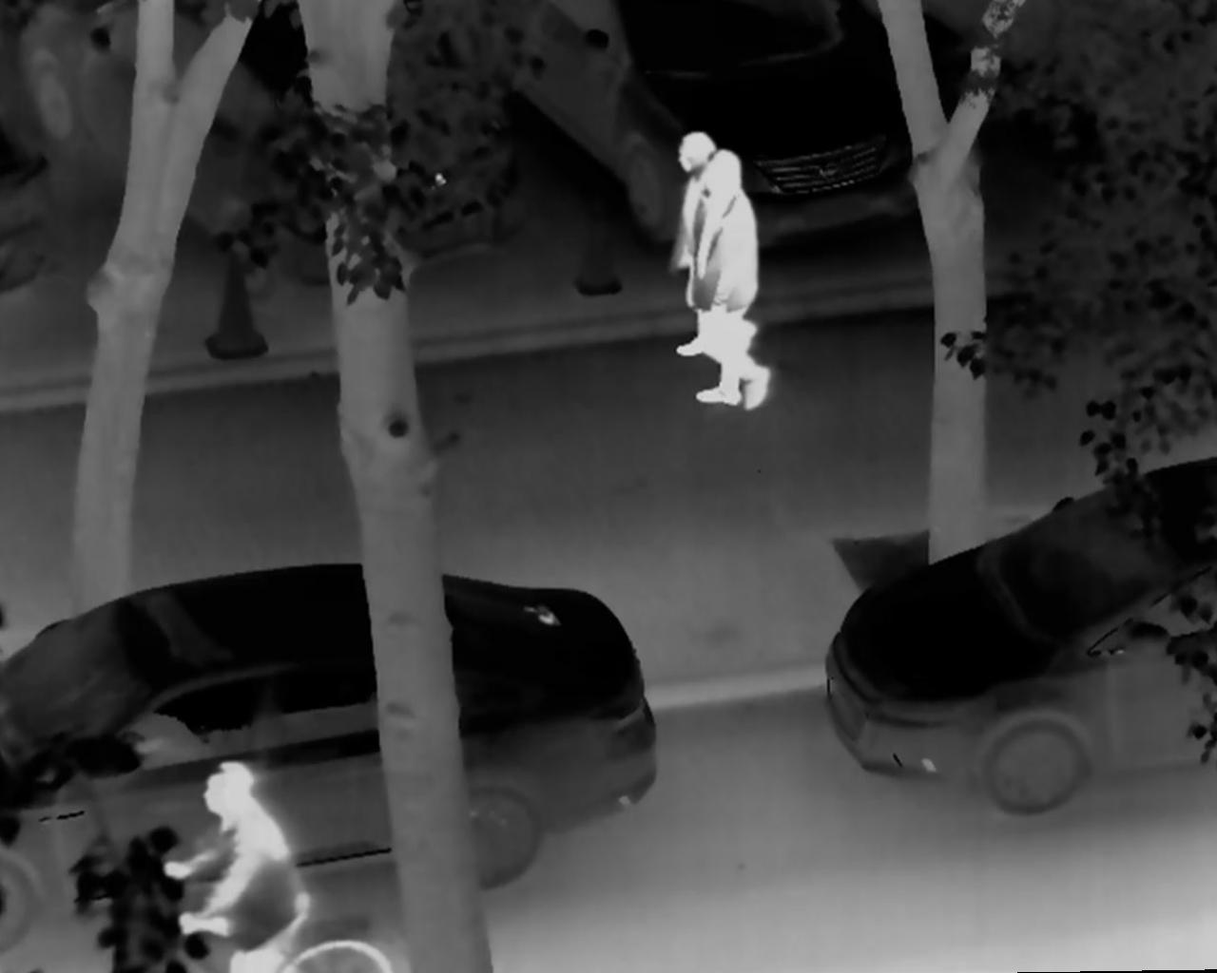person: (160, 748, 315, 973), (685, 147, 774, 420), (663, 127, 761, 363)
